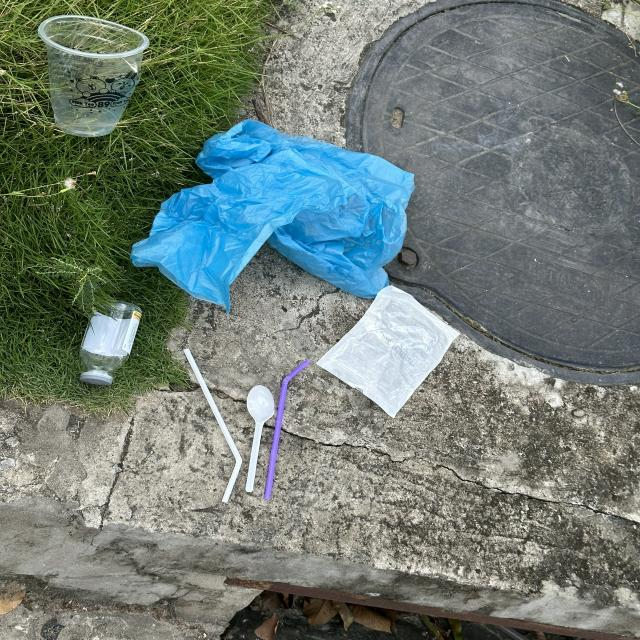bag: (129, 120, 416, 314)
bottle: (78, 300, 142, 385)
drinking straw: (183, 348, 244, 503), (264, 360, 310, 500)
packet: (316, 284, 463, 420)
plastic glass: (38, 14, 151, 138)
plastic utensil: (245, 385, 275, 493)
